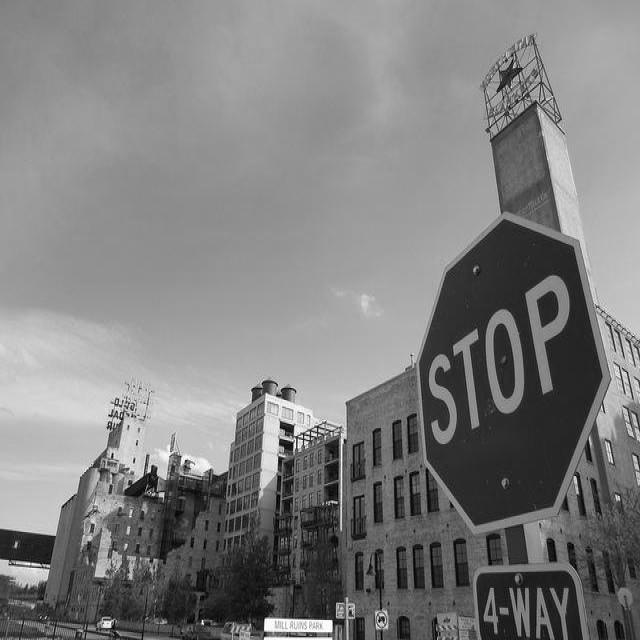vehicle: (181, 623, 222, 640), (221, 622, 245, 640), (96, 617, 112, 631)
